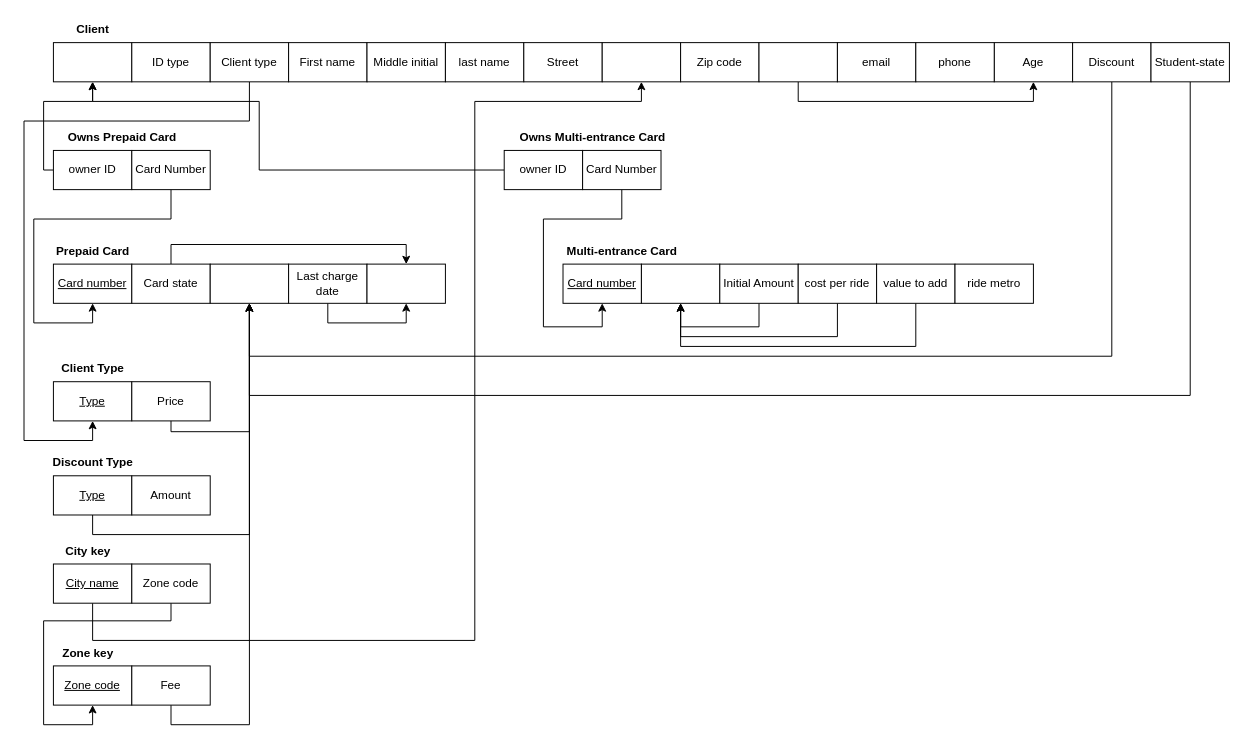
Some shapes in this 1247 by 750 pixel diagram are drawn without their labels. The centre of each missing label's shape, as x and y in pixels:
"Balance" goes at pixel 680 283.
"birthday" goes at pixel 797 62.
"Card fee" goes at pixel 249 283.
"City" goes at pixel 641 62.
"expiration" goes at pixel 405 283.
"ID" goes at pixel 92 62.
